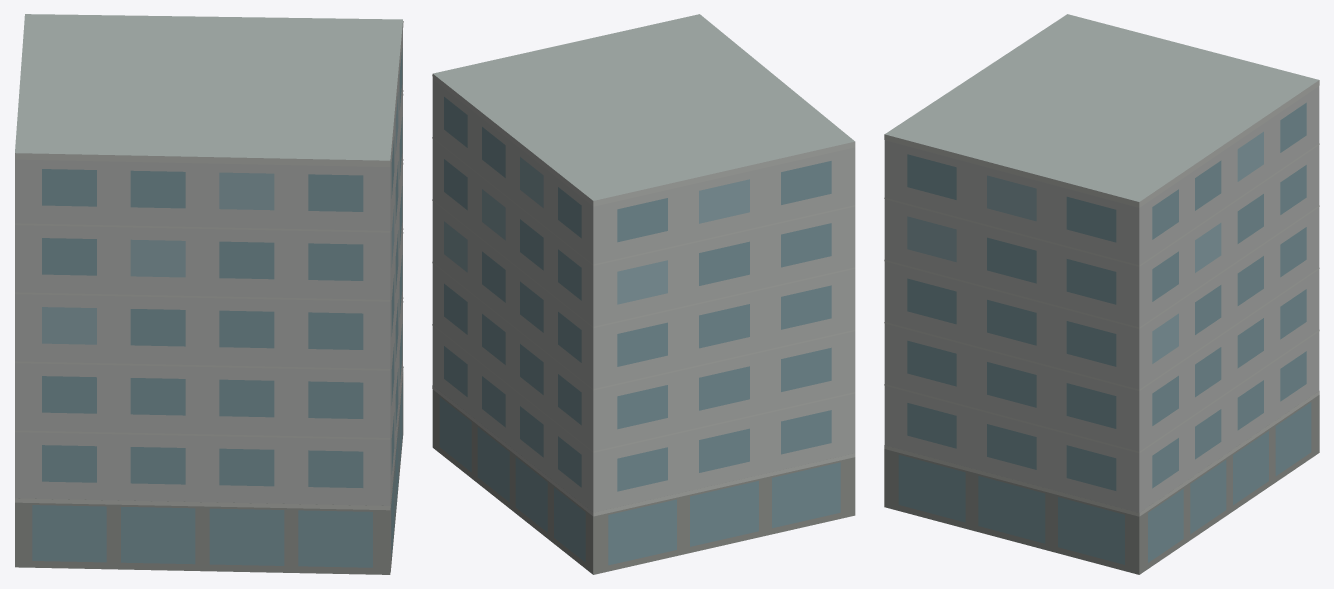
The model's file is survey-upis-32743307.glb.
3 renders of one model, left to right at view 1: azimuth 30°, elevation 25°; view 2: azimuth 150°, elevation 25°; view 3: azimuth 270°, elevation 25°, orthographic. The views are drawn at different scales.
Parts seen in each view (by area): view 1: survey-upis-32743307.tmp; view 2: survey-upis-32743307.tmp; view 3: survey-upis-32743307.tmp.
Boxes of the visible parts, x1,y1,x2,y2 form: survey-upis-32743307.tmp: (15, 14, 403, 574); survey-upis-32743307.tmp: (432, 14, 855, 574); survey-upis-32743307.tmp: (884, 14, 1319, 574).
Bounding box in the file's own units: 16.9 × 15.6 × 16.52.
